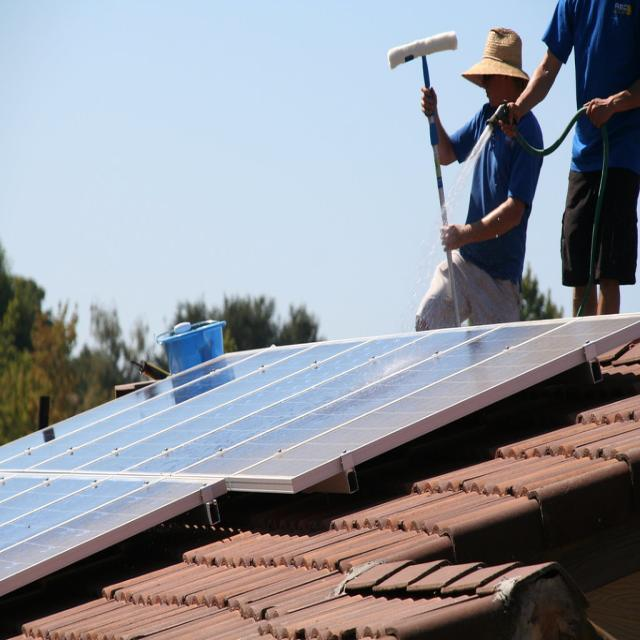dust-solar-panel: (240, 317, 640, 480)
